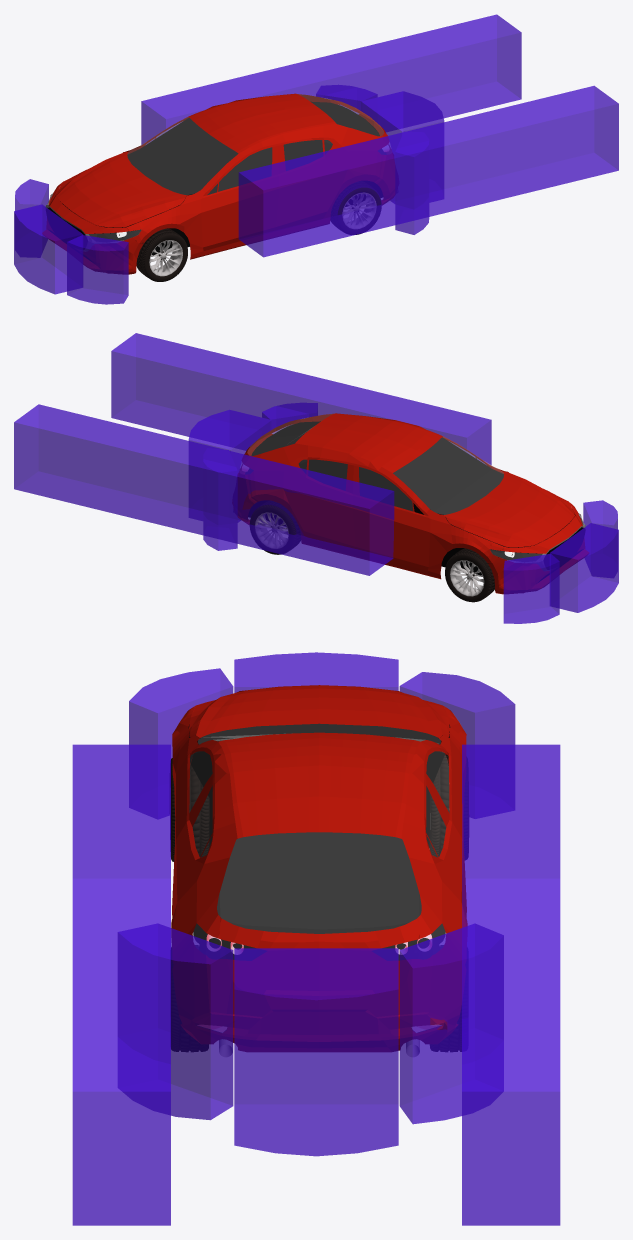
Rendered from mazda3safety.glb.
3 renders of one model, top to bottom at view 1: azimuth 30°, elevation 25°; view 2: azimuth 150°, elevation 25°; view 3: azimuth 270°, elevation 25°, orthographic. The views are drawn at different scales.
Visible parts, largest first — view 1: Car body, Doormirror (L), Doormirror (R), Cube, Front, Frontside (L), Rear, Rearside (L), Frontside (R), Car tire front, Car tire rear, Rearside (R) (+1 smaller); view 2: Car body, Doormirror (R), Doormirror (L), Cube, Front, Frontside (R), Rear, Rearside (R), Frontside (L), Car tire front, Car tire rear, Rearside (L) (+1 smaller); view 3: Car body, Doormirror (R), Doormirror (L), Rear, Cube, Rearside (L), Rearside (R), Frontside (R), Frontside (L), Front, Car tire front, Car tire rear (+1 smaller).
Boxes of the visible parts, <box> form: Car body: <box>42,93,394,274</box>; Doormirror (L): <box>238,85,618,257</box>; Doormirror (R): <box>141,14,521,144</box>; Cube: <box>62,101,385,255</box>; Front: <box>14,204,83,294</box>; Frontside (L): <box>67,235,128,304</box>; Rear: <box>361,91,444,203</box>; Rearside (L): <box>395,131,429,234</box>; Frontside (R): <box>15,179,48,257</box>; Car tire front: <box>136,228,187,281</box>; Car tire rear: <box>330,181,381,234</box>; Rearside (R): <box>316,85,377,121</box>; Car body: <box>238,413,588,594</box>; Doormirror (R): <box>14,404,394,575</box>; Doormirror (L): <box>111,333,491,465</box>; Cube: <box>245,421,569,575</box>; Front: <box>549,523,618,612</box>; Frontside (R): <box>503,553,559,623</box>; Rear: <box>188,409,271,521</box>; Rearside (R): <box>203,448,237,550</box>; Frontside (L): <box>583,500,617,577</box>; Car tire front: <box>445,548,494,602</box>; Car tire rear: <box>249,501,300,554</box>; Rearside (L): <box>262,403,317,435</box>; Car body: <box>171,685,467,1051</box>; Doormirror (R): <box>462,744,560,1225</box>; Doormirror (L): <box>72,744,170,1225</box>; Rear: <box>234,948,398,1156</box>; Cube: <box>188,723,450,960</box>; Rearside (L): <box>118,923,233,1120</box>; Rearside (R): <box>399,923,503,1124</box>; Frontside (R): <box>399,672,515,818</box>; Frontside (L): <box>129,668,233,818</box>; Front: <box>234,652,398,692</box>; Car tire front: <box>170,754,468,861</box>; Car tire rear: <box>171,945,461,1051</box>.
Size of the model in its own units: 14.93 by 2.94 by 5.94.
